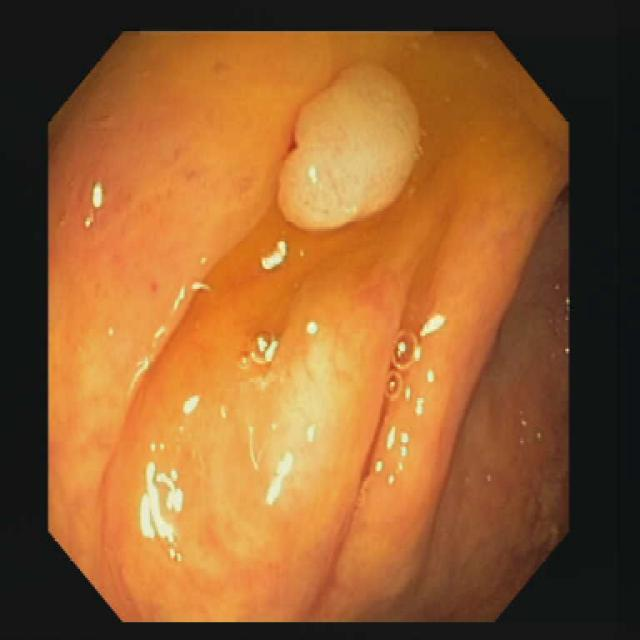tumor: (278, 64, 418, 229)
